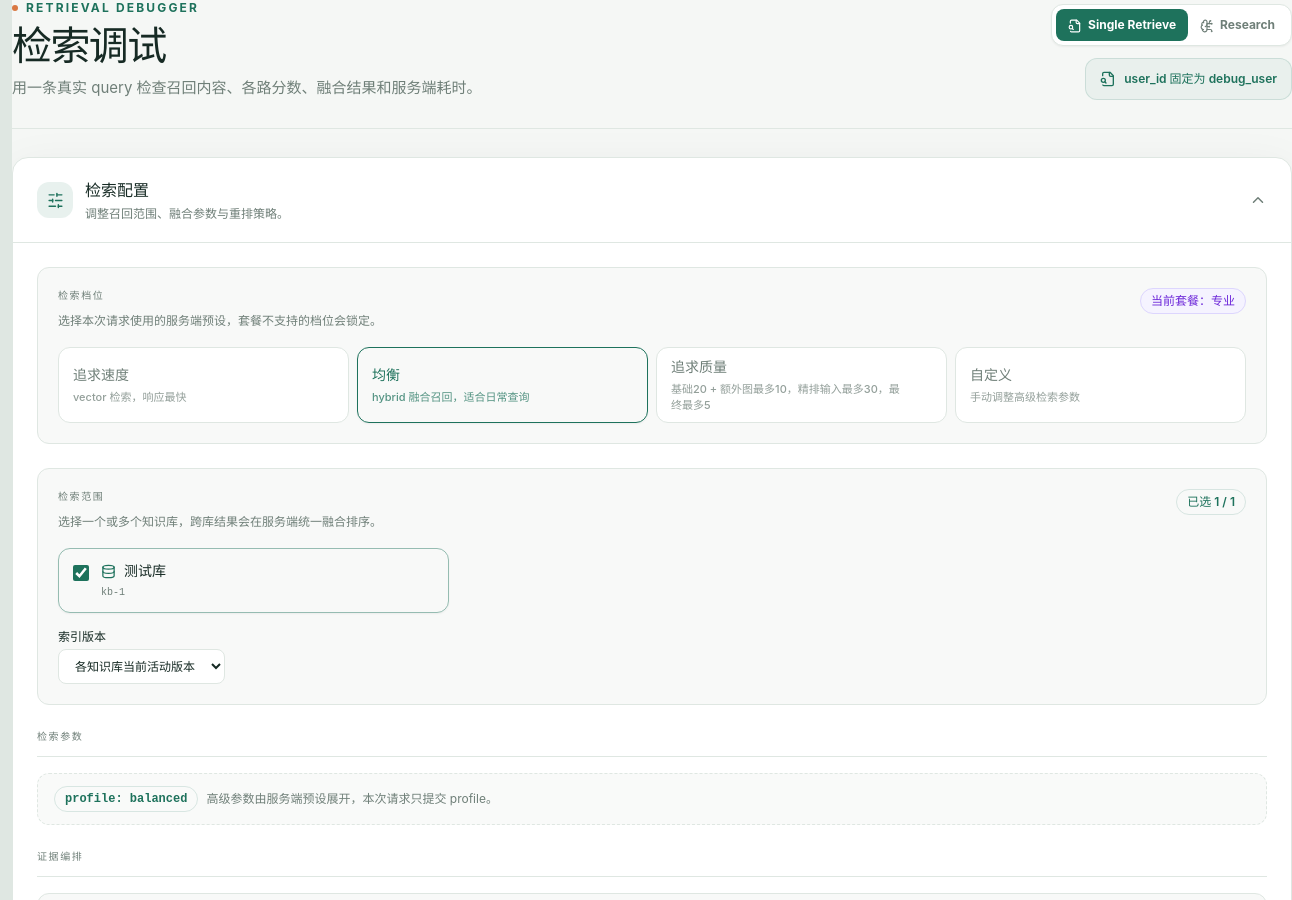
Test case: RetrievePage research mode › shows the answer, plan, rounds, usage and a working evidence anchor
The width and height of the screenshot is (1292, 900).
Expected: the checkbox named "选择 测试库" is shown, x1=73 y1=565 x2=89 y2=581
Click the tab "Research": (1238, 25) x1=1188 y1=9 x2=1287 y2=41
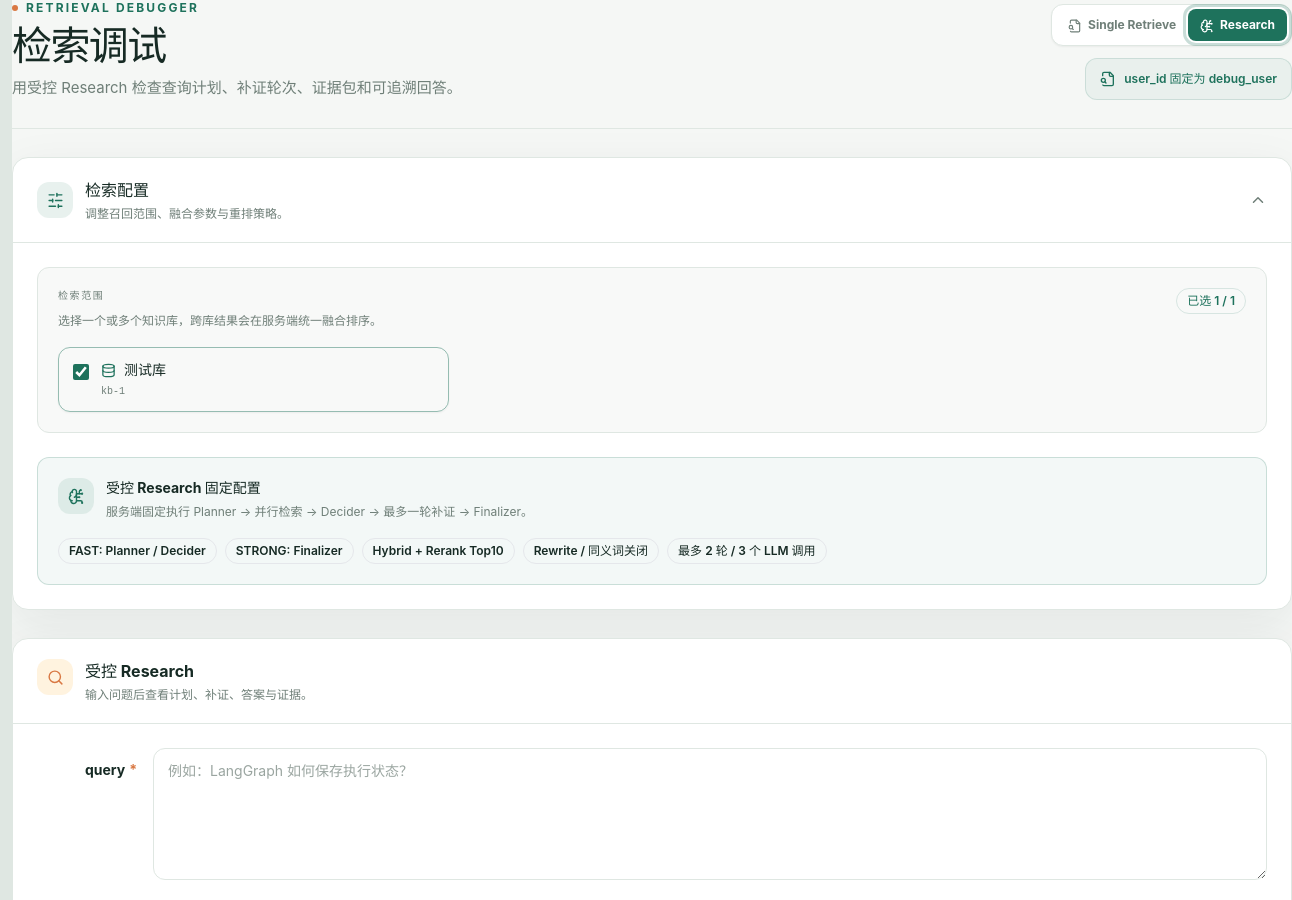
In the text box with placeholder "例如：LangGraph 如何保存执行状态？": (710, 814) x1=153 y1=748 x2=1267 y2=880, type "first question"
(page scrolled)
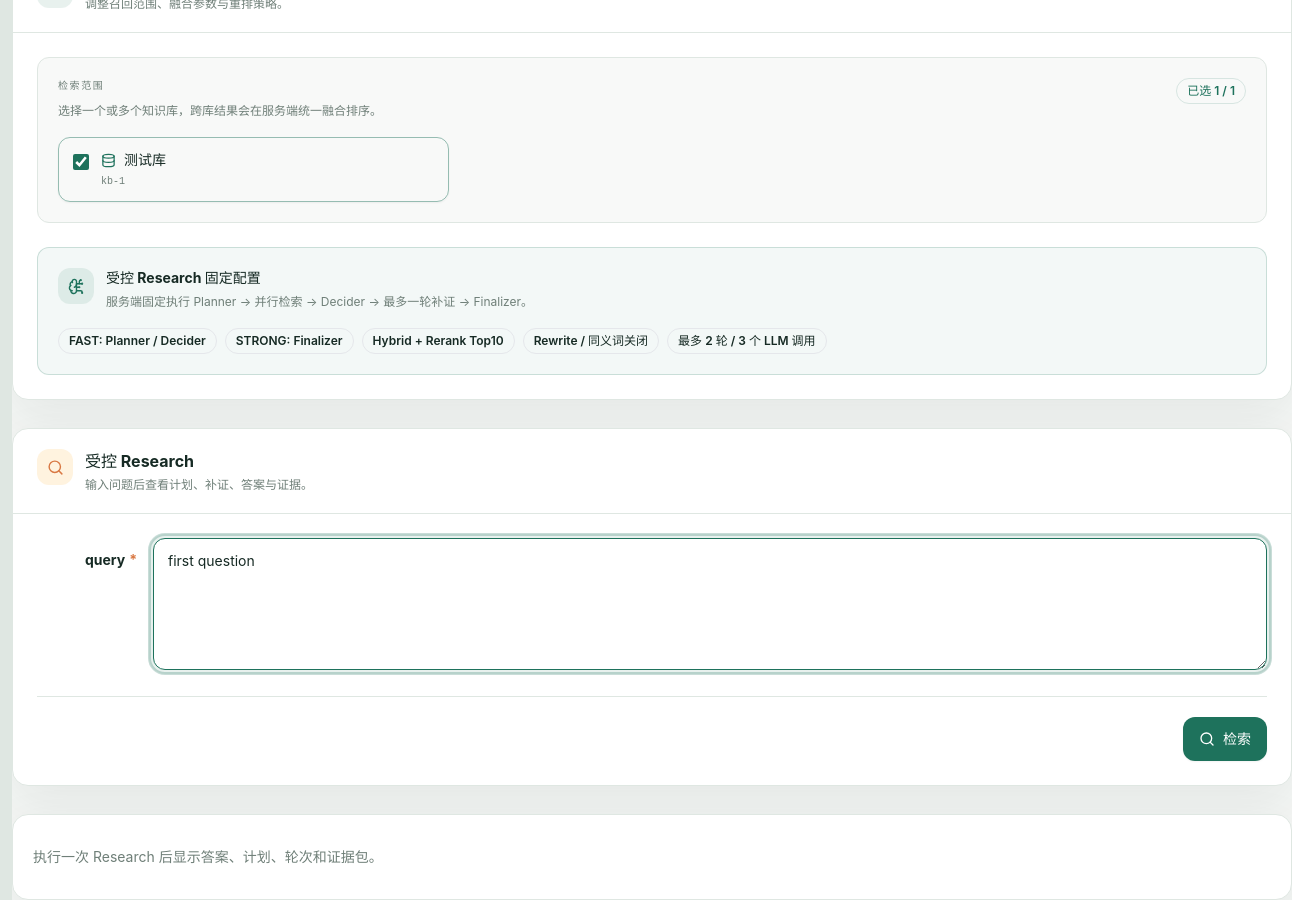
Click the button "检索": (1225, 739) x1=1183 y1=717 x2=1267 y2=761
(page scrolled)
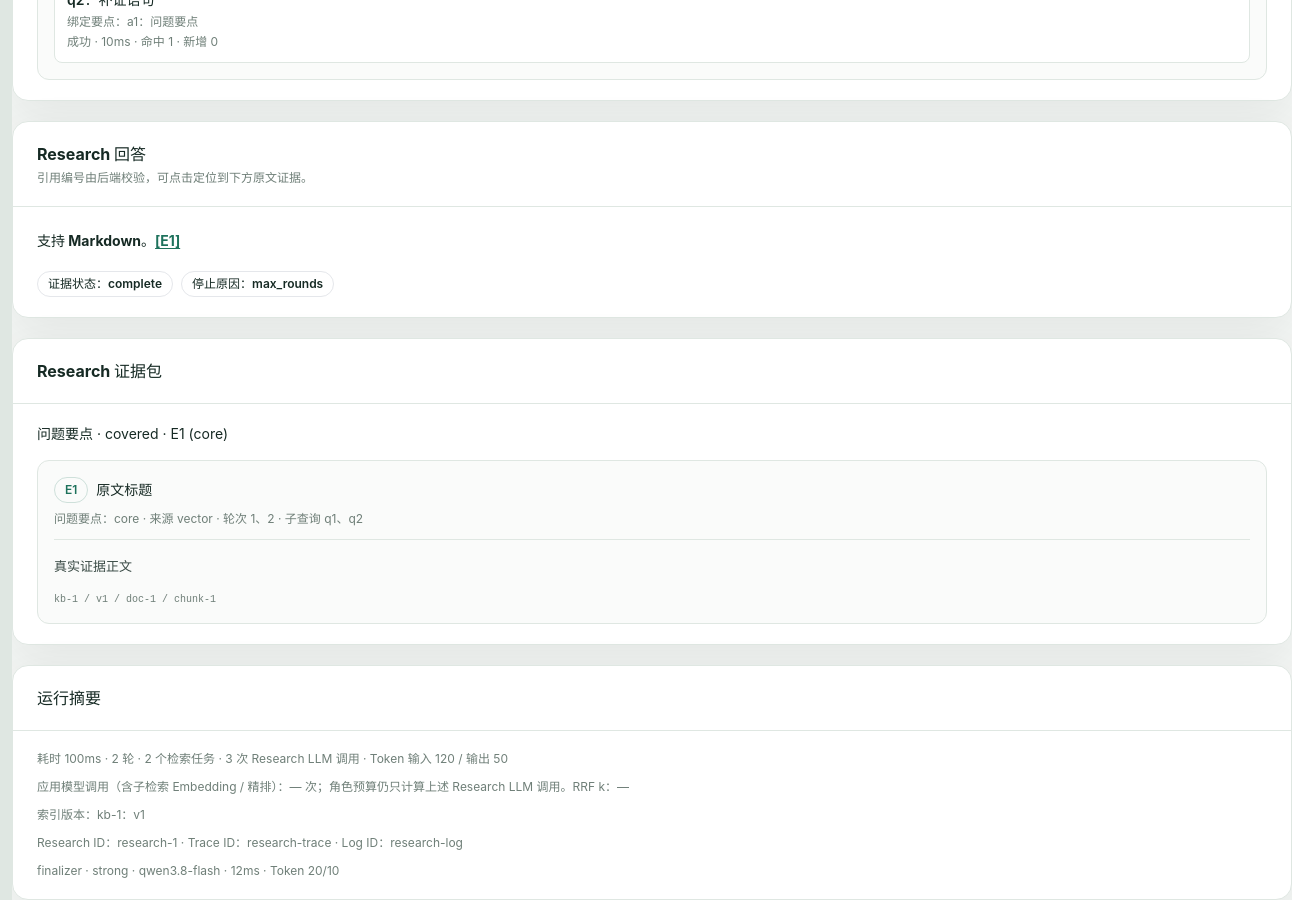
Now the text "3 次 Research LLM 调用" is shown, box x1=37 y1=751 x2=508 y2=766
Now the element with id "research-evidence-E1" shows "真实证据正文", box x1=54 y1=558 x2=132 y2=574
